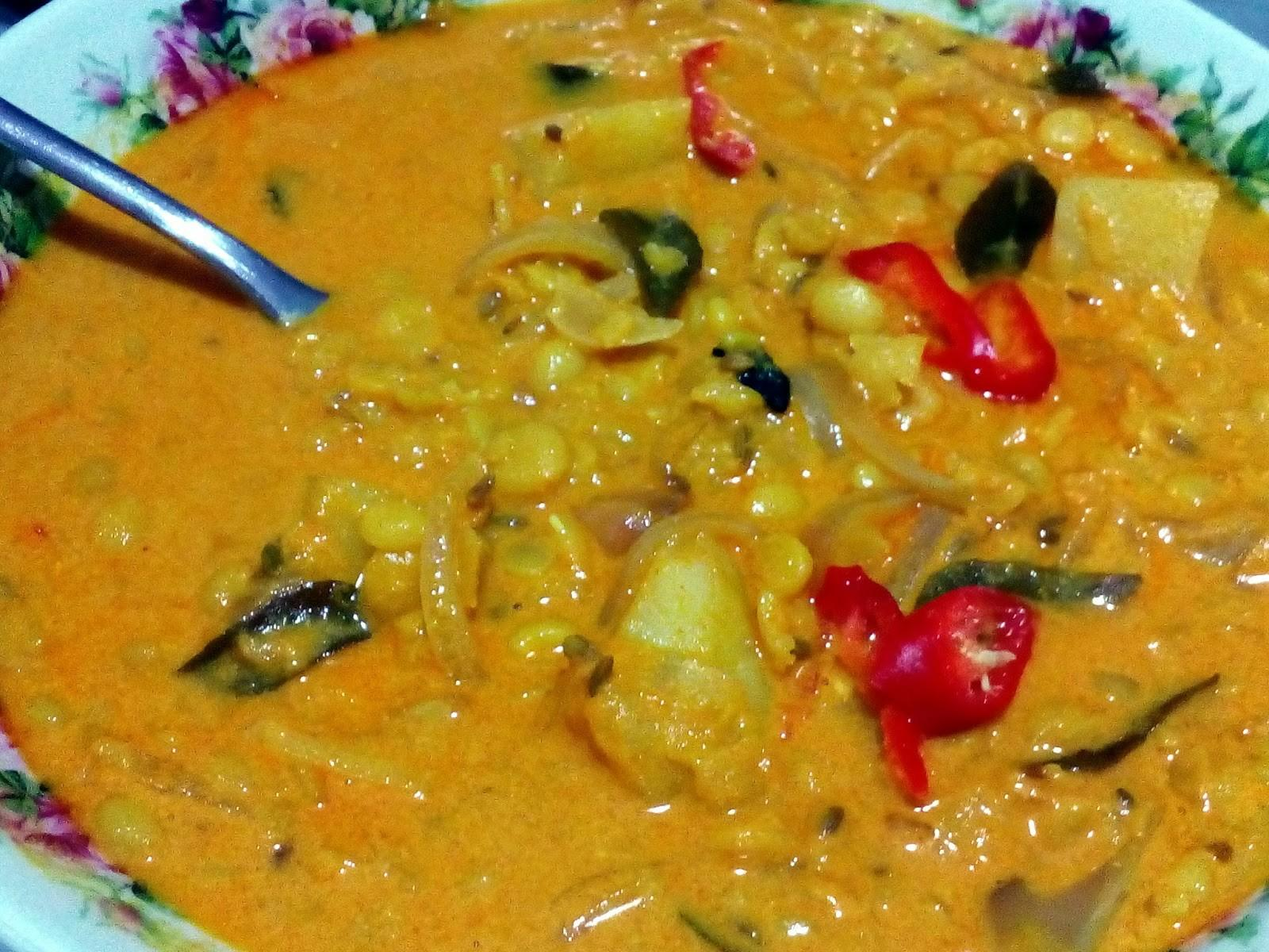Dal: (1, 0, 1269, 952)
